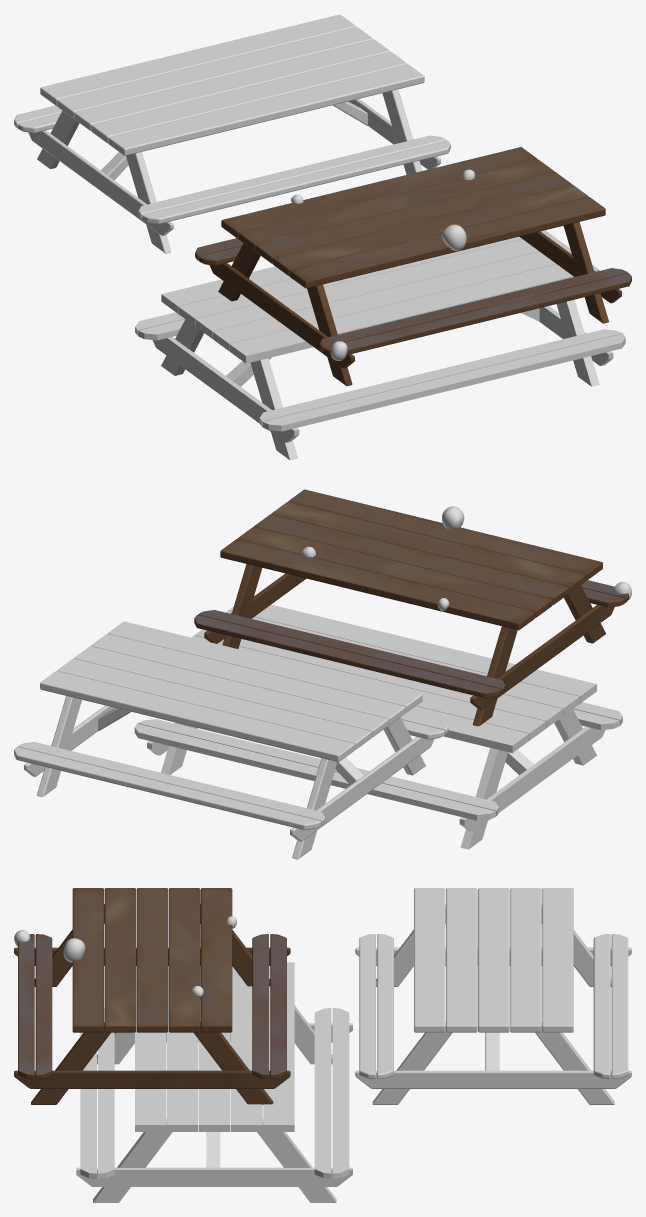
Rendered from Bench.fbx.
3 renders of one model, top to bottom at view 1: azimuth 30°, elevation 25°; view 2: azimuth 150°, elevation 25°; view 3: azimuth 270°, elevation 25°, orthographic. The views are drawn at different scales.
Visible parts, largest first — view 1: Bench.001, Bench, Cube, Cube.003, Cube.002, Cube.001; view 2: Bench.001, Bench, Cube, Cube.003, Cube.002, Cube.001; view 3: Bench.001, Bench, Cube, Cube.003, Cube.002, Cube.001, Cube.004.
Boxes of the visible parts, x1,y1,x2,y2 form: Bench.001: (14, 14, 450, 253); Bench: (195, 147, 631, 386); Cube: (161, 230, 599, 363); Cube.003: (135, 312, 625, 431); Cube.002: (152, 306, 613, 442); Cube.001: (161, 299, 599, 460); Bench.001: (14, 621, 448, 859); Bench: (194, 489, 628, 726); Cube: (191, 604, 596, 753); Cube.003: (134, 702, 622, 820); Cube.002: (147, 722, 605, 831); Cube.001: (161, 709, 596, 849); Bench.001: (355, 888, 631, 1104); Bench: (14, 888, 290, 1104); Cube: (135, 962, 294, 1131); Cube.003: (80, 1008, 349, 1178); Cube.002: (76, 1023, 352, 1186); Cube.001: (93, 1005, 336, 1202); Cube.004: (206, 1132, 220, 1167).
Size of the model in its own units: 8.96 by 5.69 by 3.08.
